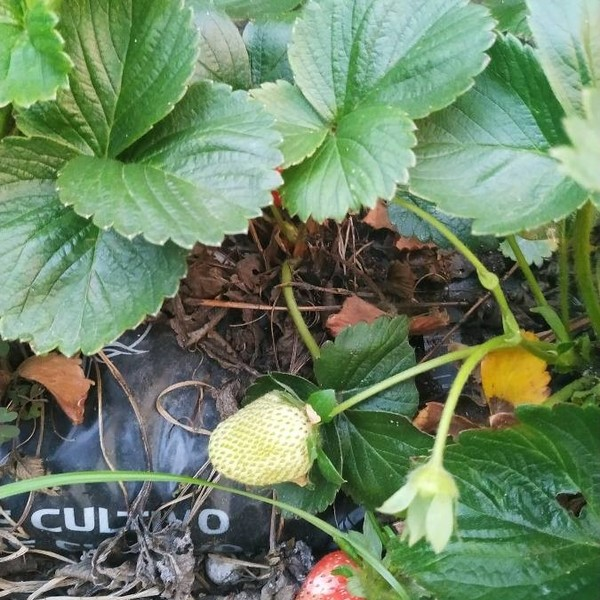obstacle: (15, 12, 582, 306)
